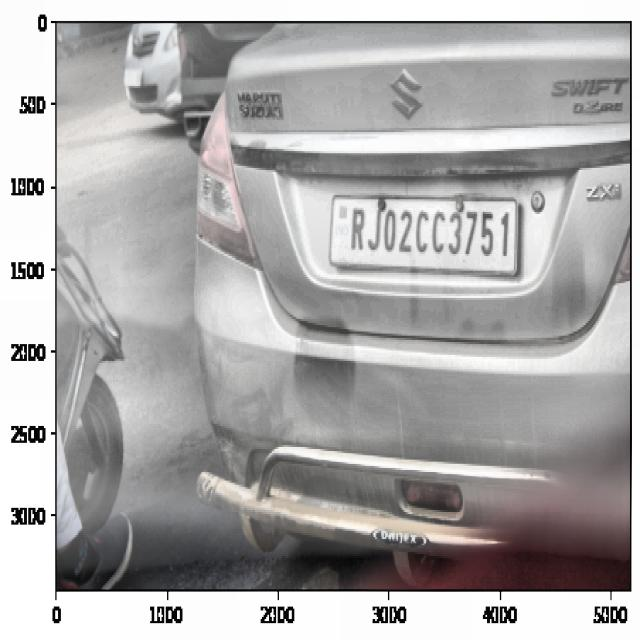license_plate: (346, 197, 516, 276)
